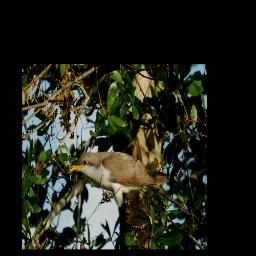Cuckoo: (66, 149, 171, 221)
